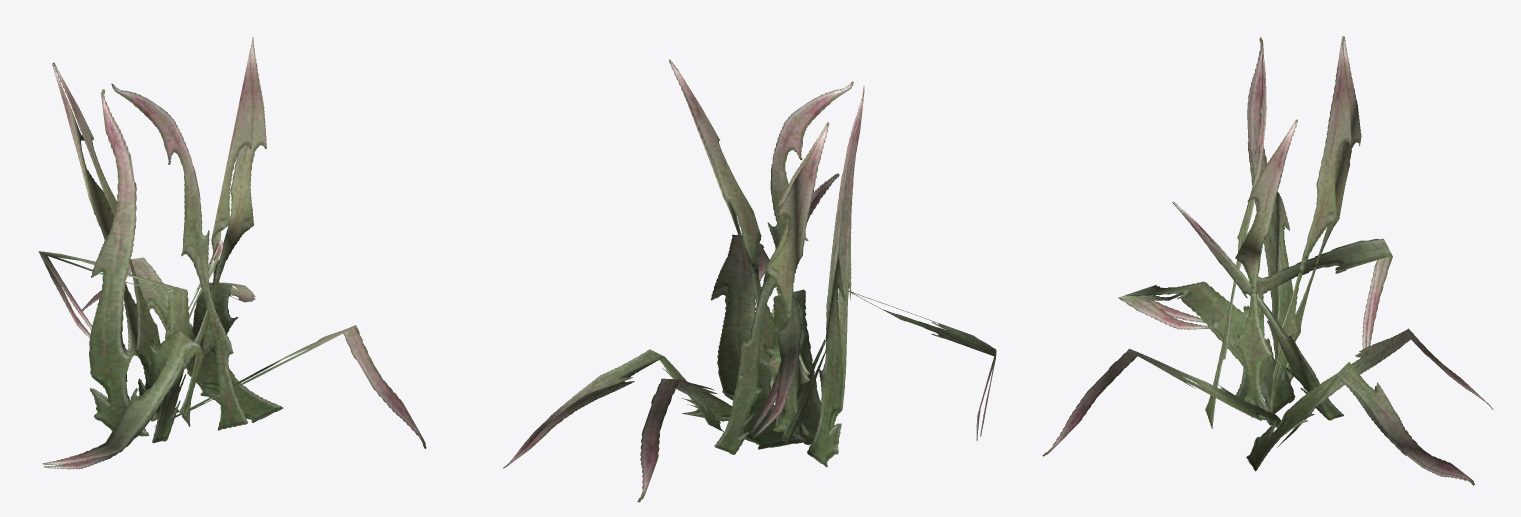
The model's file is core_leaf_razorgrass_mtns_l1.fbx.
3 renders of one model, left to right at view 1: azimuth 30°, elevation 25°; view 2: azimuth 150°, elevation 25°; view 3: azimuth 270°, elevation 25°, orthographic. The views are drawn at different scales.
Visible parts, largest first — view 1: mesh_node; view 2: mesh_node; view 3: mesh_node.
Boxes of the visible parts, x1=… form: mesh_node: x1=38, y1=37, x2=426, y2=469; mesh_node: x1=503, y1=59, x2=996, y2=502; mesh_node: x1=1042, y1=36, x2=1493, y2=485.
Size of the model in its own units: 1.52 by 1.56 by 1.79.
